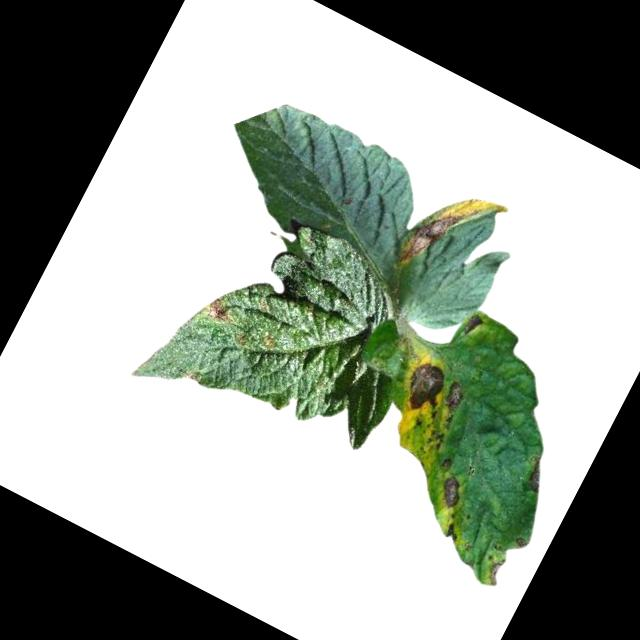Early_blight: (394, 169, 513, 299), (395, 355, 456, 421), (516, 451, 559, 503), (433, 473, 474, 515), (437, 382, 473, 423), (205, 292, 241, 327), (482, 551, 512, 589), (461, 310, 486, 339), (440, 520, 467, 546)
